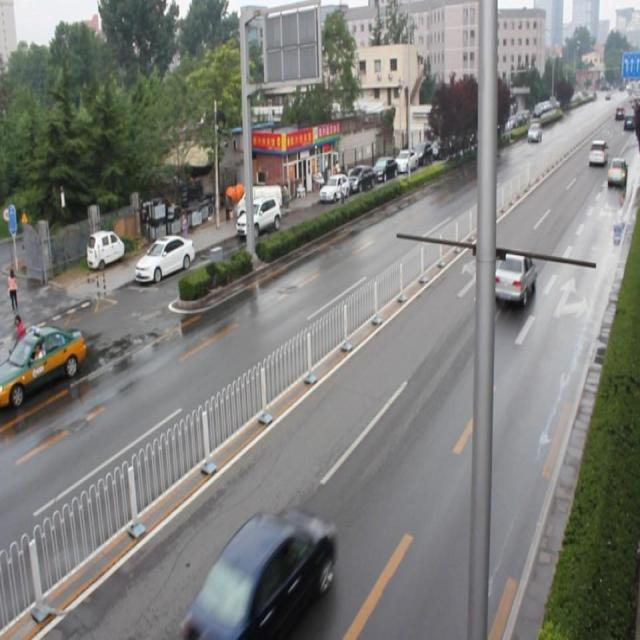car: (182, 504, 335, 631), (491, 248, 536, 304), (605, 154, 626, 189)
